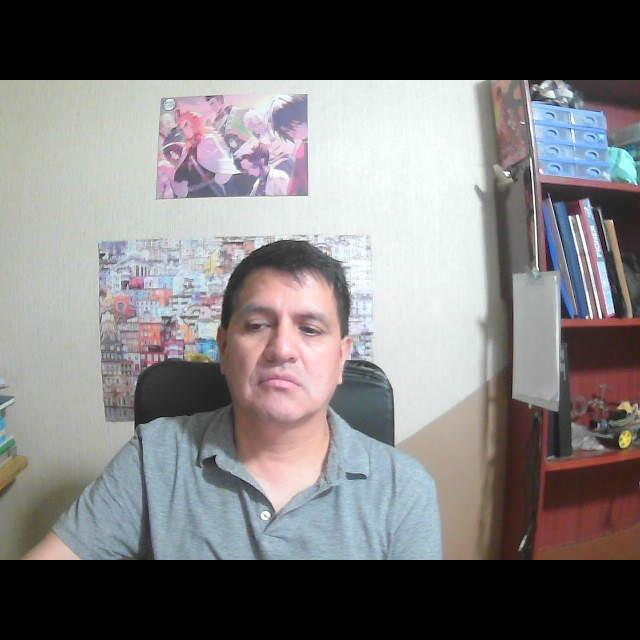cesar: (207, 231, 361, 465)
